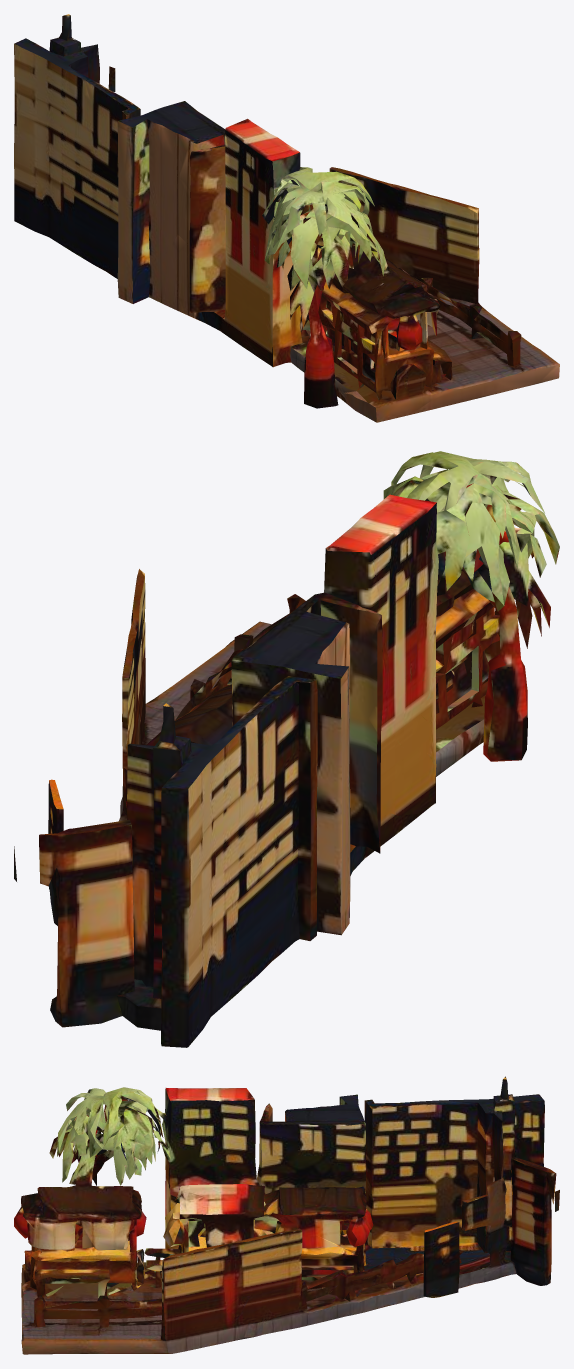
Rendered from nakasu-yatai.glb.
3 renders of one model, top to bottom at view 1: azimuth 30°, elevation 25°; view 2: azimuth 150°, elevation 25°; view 3: azimuth 270°, elevation 25°, orthographic. The views are drawn at different scales.
Visible parts, largest first — view 1: logan-textured.obj; view 2: logan-textured.obj; view 3: logan-textured.obj.
Boxes of the visible parts, x1,y1,x2,y2 form: logan-textured.obj: [14, 14, 559, 422]; logan-textured.obj: [14, 451, 559, 1047]; logan-textured.obj: [14, 1076, 559, 1354].
Bounding box in the file's own units: 0.4597 × 0.3748 × 1.
1 material, 1 textured.
